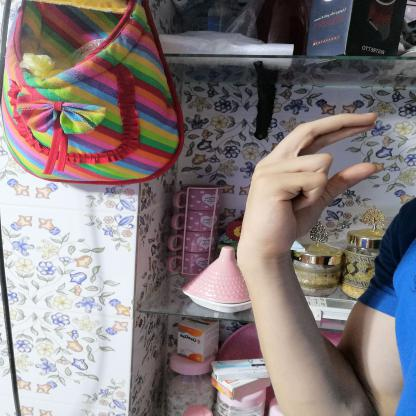DHELL: (226, 100, 391, 262)
